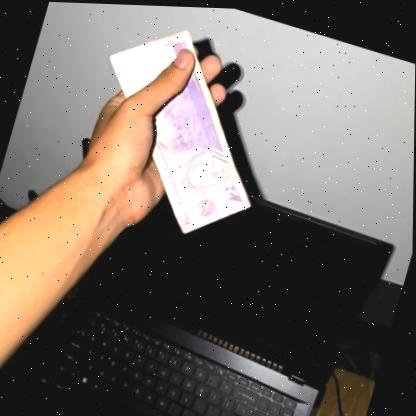ten-back-vef: (68, 6, 294, 252)
